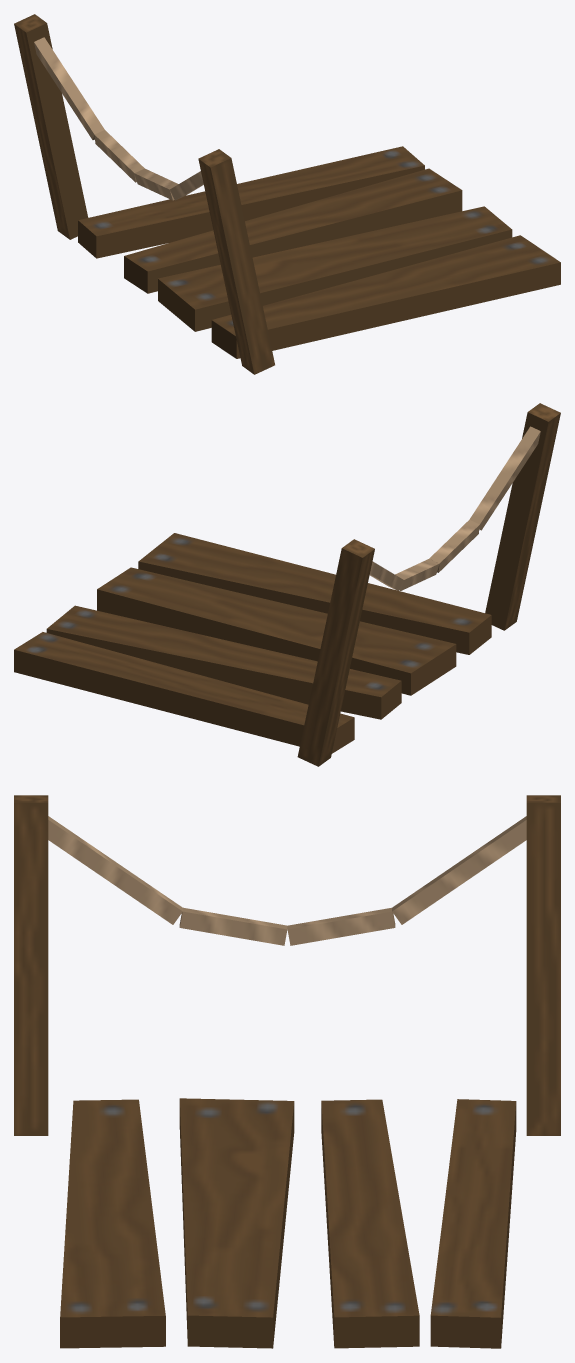
File: bridge_wooden_side.fbx
3 views of the same model, one above another, from view 1: azimuth 30°, elevation 25°; view 2: azimuth 150°, elevation 25°; view 3: azimuth 270°, elevation 25° (orthographic). The views are drawn at different scales.
Parts seen in each view (by area): view 1: BridgeWooden_LOD0; view 2: BridgeWooden_LOD0; view 3: BridgeWooden_LOD0.
Part boxes in pixels (left/top/right/bottom): BridgeWooden_LOD0: left=14, top=14, right=560, bottom=374; BridgeWooden_LOD0: left=14, top=403, right=560, bottom=766; BridgeWooden_LOD0: left=14, top=795, right=560, bottom=1348.
Size of what is drawn, in the model's own units: 691 by 401 by 640.
